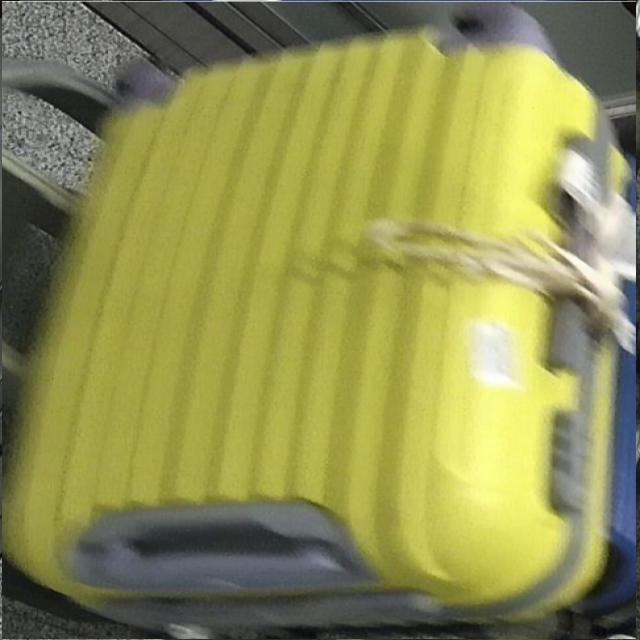suitcase: (1, 2, 639, 640)
